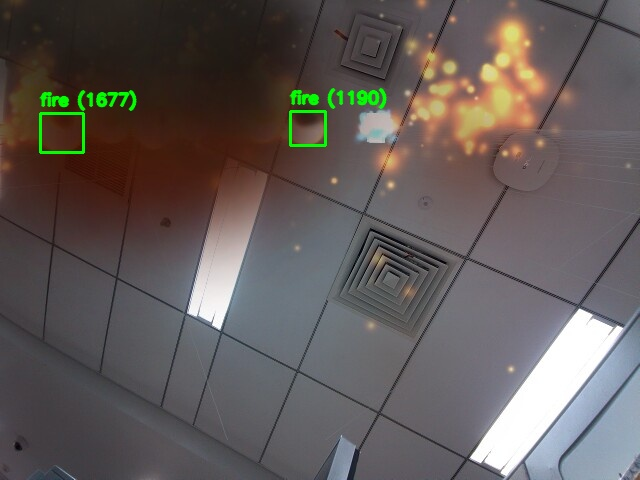fire: (40, 113, 83, 152), (290, 111, 325, 145)
